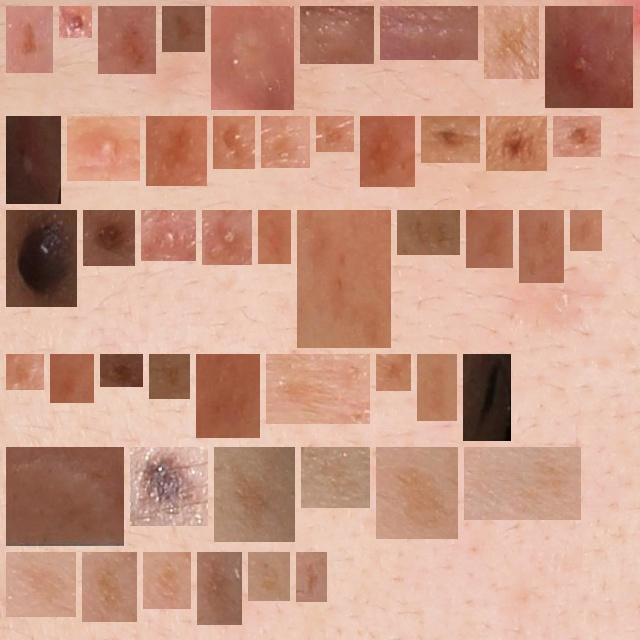hypertrophic_scar: (14, 455, 116, 538), (219, 14, 286, 102), (388, 14, 470, 52), (308, 14, 366, 56)
melasma: (305, 218, 383, 340), (472, 455, 573, 512), (222, 455, 287, 534), (384, 455, 450, 531), (274, 362, 362, 416), (204, 362, 252, 430), (14, 560, 68, 609), (154, 124, 199, 178), (309, 455, 362, 500), (492, 14, 531, 71), (106, 14, 148, 66), (368, 124, 407, 179), (90, 560, 129, 614), (527, 218, 556, 275), (205, 560, 234, 617), (14, 14, 45, 65), (405, 218, 452, 247), (151, 560, 183, 601), (474, 218, 505, 260), (425, 362, 449, 413), (269, 124, 302, 160), (221, 124, 247, 161), (58, 362, 86, 395), (256, 560, 282, 593), (170, 14, 197, 44), (157, 362, 182, 391), (266, 218, 283, 256), (304, 560, 319, 594), (108, 362, 135, 379), (324, 124, 346, 144), (14, 362, 36, 382), (578, 218, 594, 243), (384, 362, 403, 383)
nevus: (14, 218, 69, 299), (138, 455, 200, 518), (471, 362, 503, 433), (494, 124, 539, 163), (91, 218, 127, 258), (429, 124, 472, 155), (561, 124, 593, 149), (67, 14, 84, 30)
pustule: (553, 14, 625, 100), (14, 124, 53, 196), (75, 124, 132, 173), (149, 218, 188, 253), (210, 218, 244, 257)
